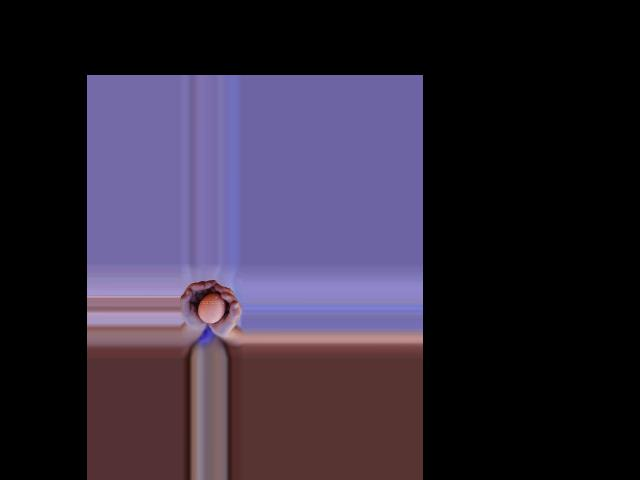egg: (197, 292, 225, 323)
